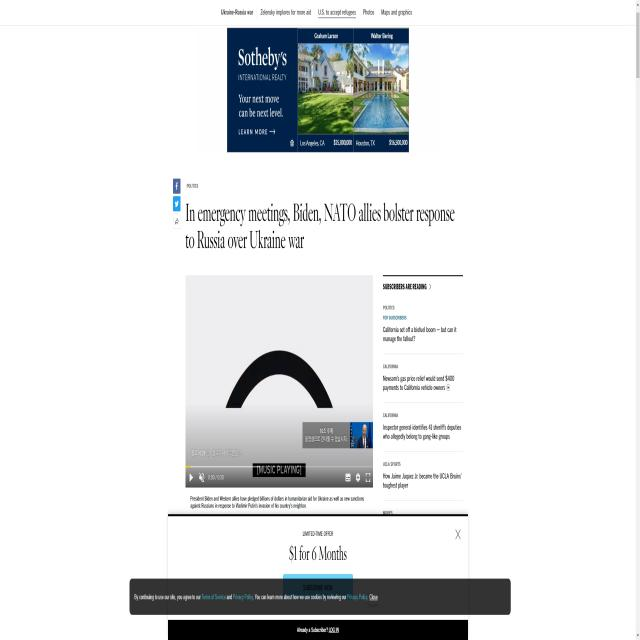control-bar: (185, 466, 372, 486)
tab-bar: (214, 4, 414, 26)
